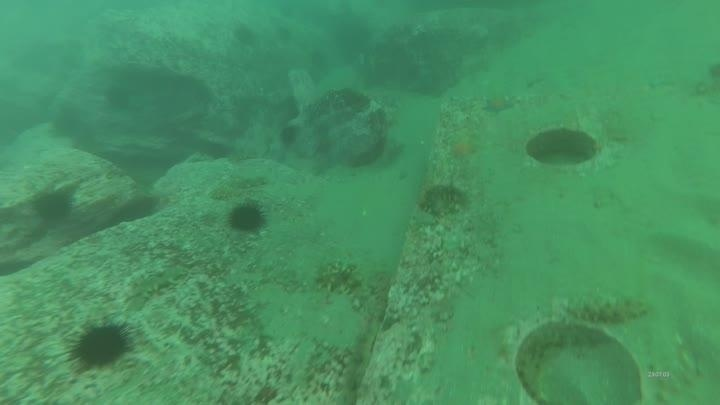echinus: (64, 318, 135, 373), (31, 187, 75, 225), (226, 200, 269, 235), (48, 104, 87, 141), (102, 83, 135, 114), (231, 22, 259, 49)
holothurian: (333, 318, 381, 404), (558, 289, 652, 329), (312, 258, 375, 308), (123, 262, 189, 306), (416, 184, 470, 224), (209, 171, 271, 197)
starfish: (384, 372, 447, 405), (444, 128, 482, 163), (480, 91, 517, 117)
